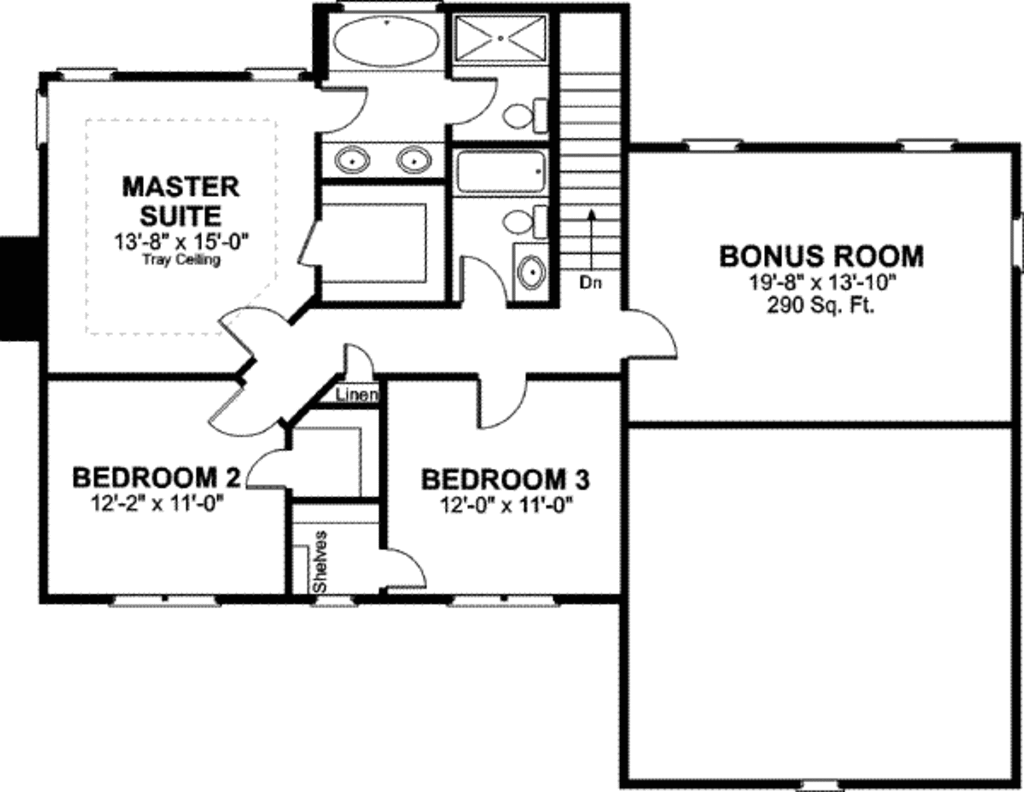door: (204, 386, 283, 447), (618, 303, 682, 363), (214, 305, 293, 353), (469, 372, 527, 436), (455, 249, 517, 307), (370, 542, 429, 593), (447, 70, 498, 126), (245, 443, 294, 495), (341, 336, 380, 386)
large_sink: (501, 93, 547, 137), (501, 203, 549, 242)
small_sink: (315, 142, 442, 181)
stairs: (552, 7, 621, 310)
tub: (326, 14, 446, 76), (448, 147, 554, 201)
windows: (97, 589, 227, 612), (442, 592, 562, 611), (51, 58, 118, 84), (239, 65, 314, 88), (896, 137, 972, 158), (682, 134, 748, 156), (33, 90, 53, 147)
